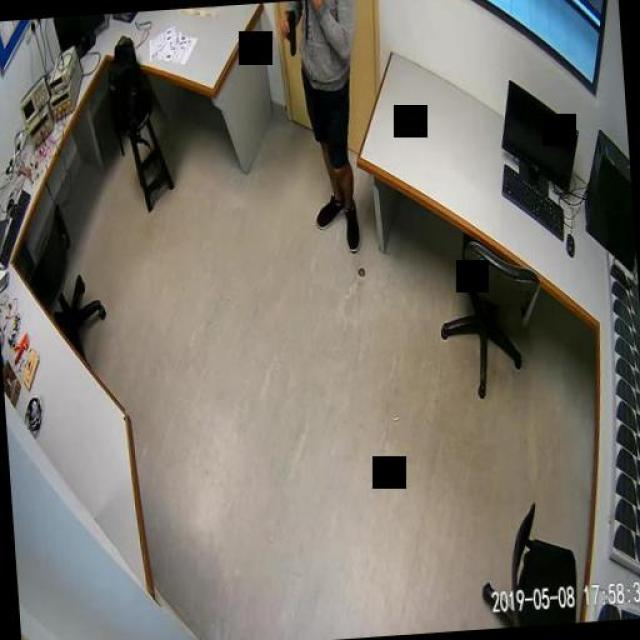gun: (278, 7, 298, 55)
